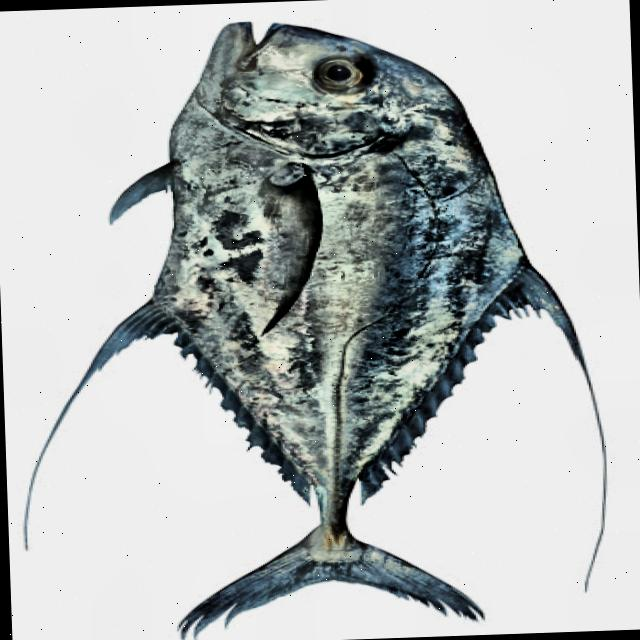fish: (10, 7, 604, 640)
